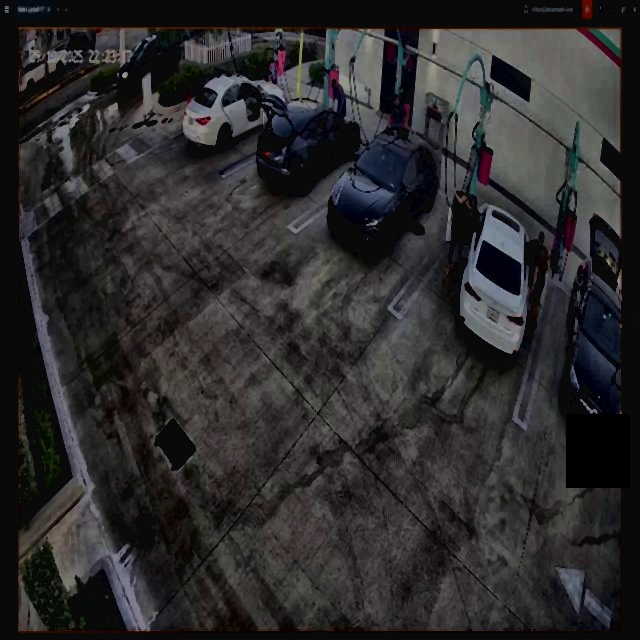Car: (449, 193, 543, 360), (327, 128, 439, 260), (255, 93, 359, 188), (185, 72, 285, 154)
